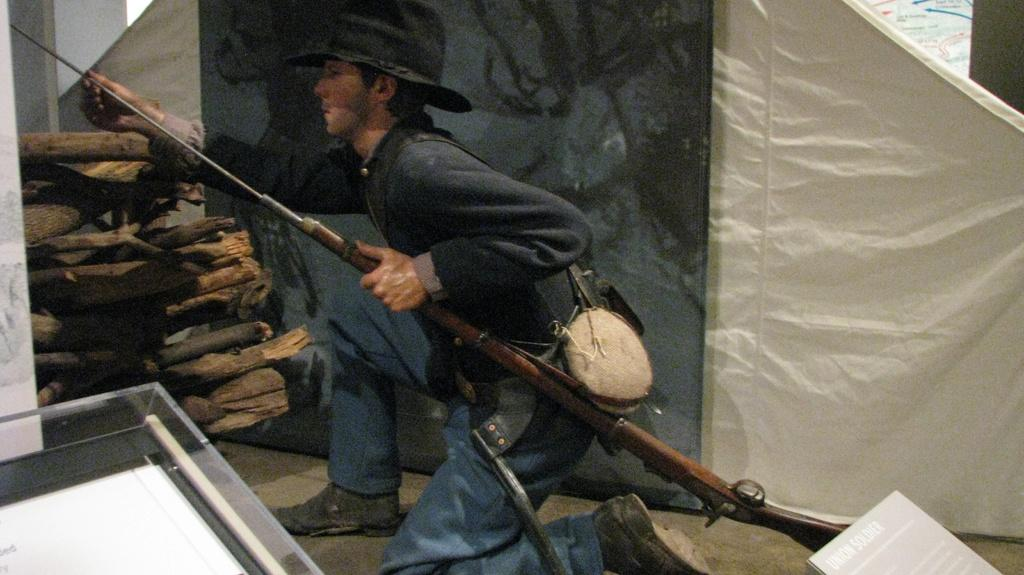Hat: (260, 17, 470, 119)
